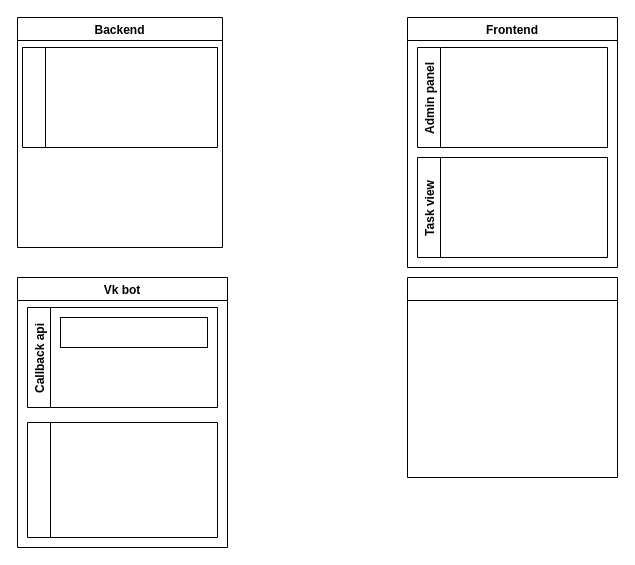
Image size: 635x565. Some labels were removed from this diagram. The centre of each missing label's shape, as x and y in pixels:
"Posting endpoint" goes at point 122,480.
"Task renderer" goes at point 512,377.
"wall_comment_new" goes at point 134,332.
